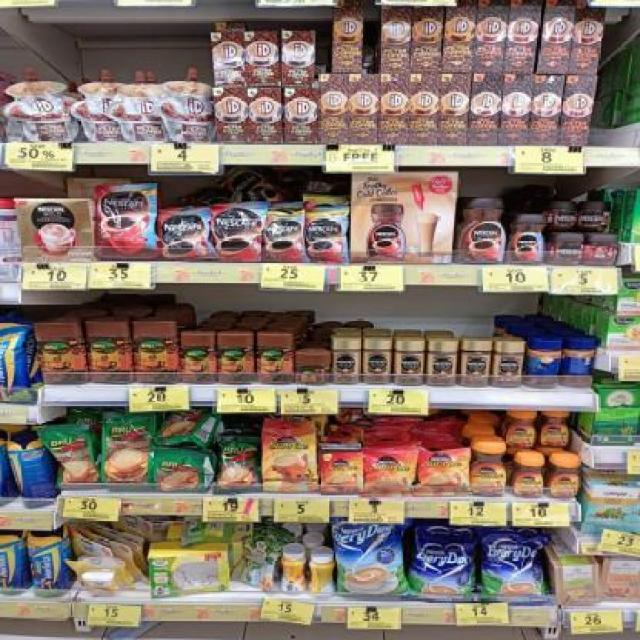Coffee: (95, 186, 157, 260), (263, 435, 317, 492), (459, 200, 506, 262), (157, 209, 214, 260), (211, 207, 263, 259), (305, 213, 347, 262), (420, 452, 467, 494), (366, 454, 413, 496), (507, 214, 546, 264), (471, 446, 509, 496), (266, 215, 305, 263), (461, 339, 489, 387), (395, 339, 423, 386), (512, 458, 544, 499), (494, 342, 522, 388), (429, 340, 456, 386), (550, 459, 581, 499), (333, 338, 359, 384), (363, 339, 389, 385), (543, 411, 572, 447), (508, 412, 536, 448), (551, 234, 583, 263), (587, 234, 619, 262), (584, 203, 614, 229), (550, 203, 579, 229)
